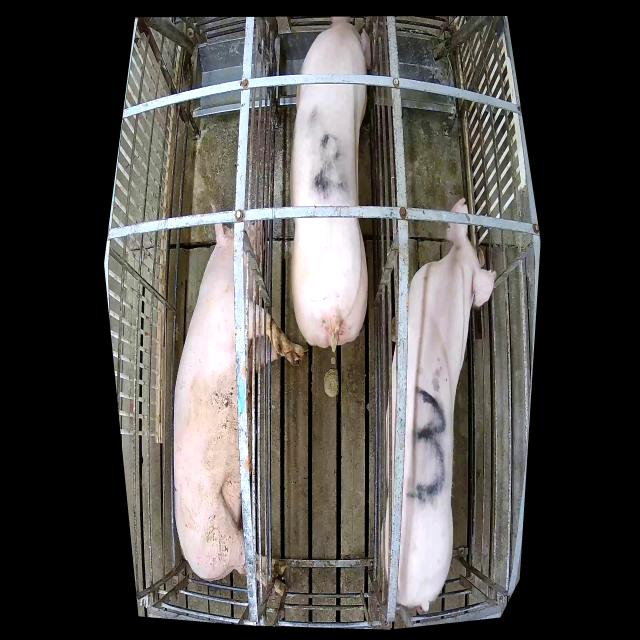pig: (174, 207, 308, 601), (381, 198, 497, 612), (290, 23, 370, 353)
